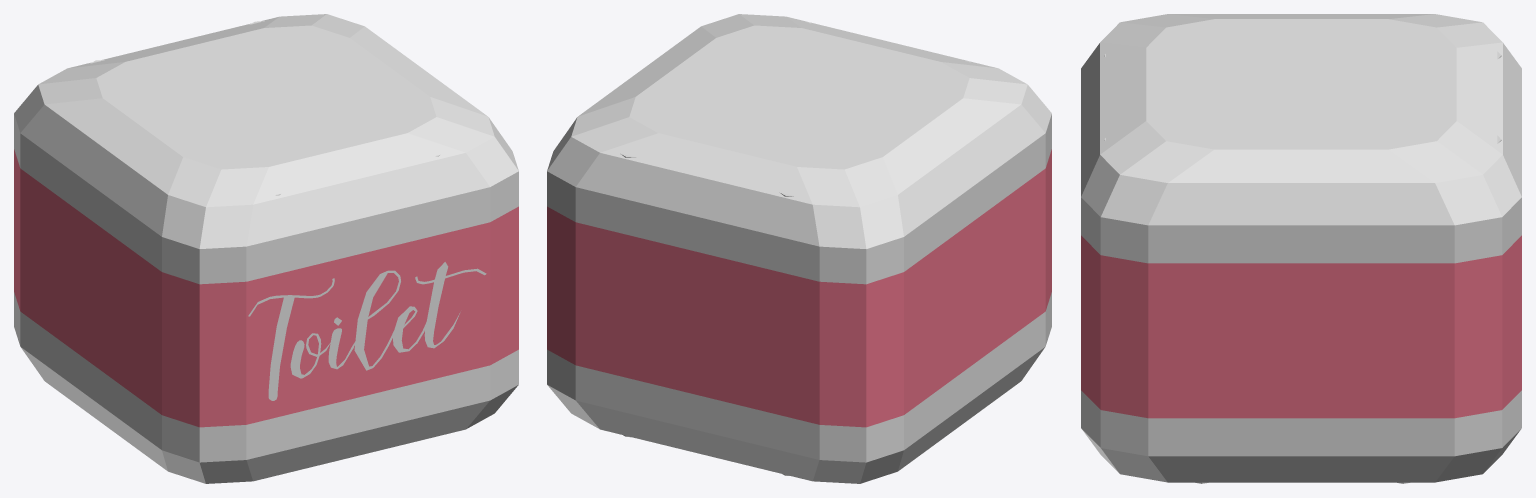
The model's file is Ma_Paper_Toilet_2.fbx.
3 renders of one model, left to right at view 1: azimuth 30°, elevation 25°; view 2: azimuth 150°, elevation 25°; view 3: azimuth 270°, elevation 25°, orthographic. The views are drawn at different scales.
Parts seen in each view (by area): view 1: Ma_Paper_Toilet_2; view 2: Ma_Paper_Toilet_2; view 3: Ma_Paper_Toilet_2.
Boxes of the visible parts, bbox=[...] form: Ma_Paper_Toilet_2: bbox=[14, 14, 518, 483]; Ma_Paper_Toilet_2: bbox=[547, 14, 1051, 483]; Ma_Paper_Toilet_2: bbox=[1081, 14, 1521, 483].
Size of the model in its own units: 265 by 267 by 219.
